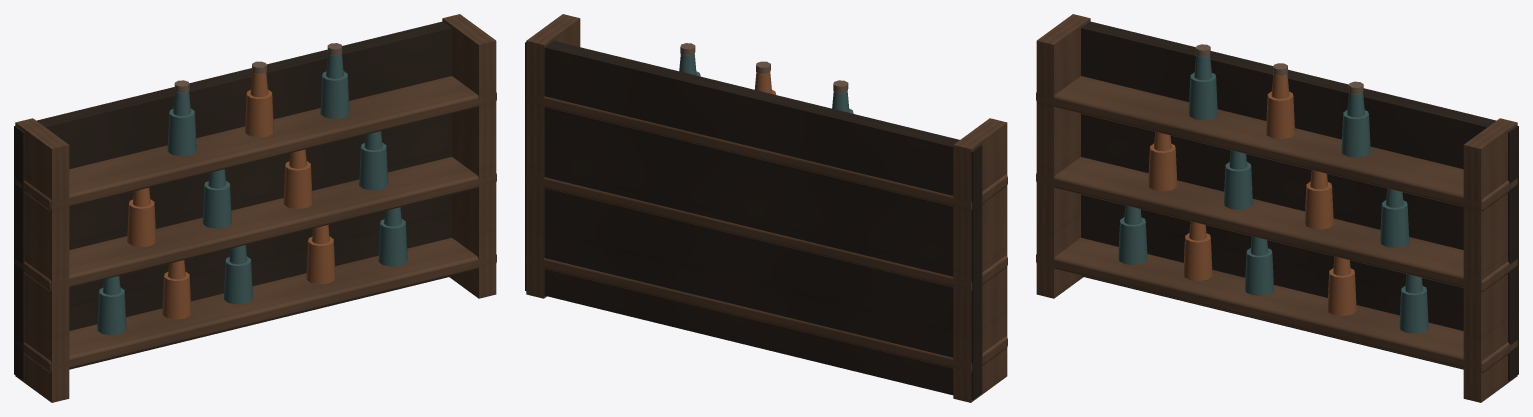
The model's file is sk-bar-shelf.glb.
The picture shows the model from 3 angles, left to right: view 1: azimuth 30°, elevation 25°; view 2: azimuth 150°, elevation 25°; view 3: azimuth 330°, elevation 25°; orthographic projection.
Visible parts, largest first — view 1: interior:bar_shelf-static-wood-shelf, shelf-backboard, interior:bar_shelf-static-bottle-glass, interior:bar_shelf-static-bottle-amber, interior:bar_shelf-static-bottle-cork; view 2: shelf-backboard, interior:bar_shelf-static-wood-shelf, interior:bar_shelf-static-bottle-glass, interior:bar_shelf-static-bottle-cork; view 3: interior:bar_shelf-static-wood-shelf, shelf-backboard, interior:bar_shelf-static-bottle-glass, interior:bar_shelf-static-bottle-amber, interior:bar_shelf-static-bottle-cork.
Boxes of the visible parts, x1=… form: interior:bar_shelf-static-wood-shelf: x1=15, y1=14, x2=496, y2=402; shelf-backboard: x1=14, y1=21, x2=451, y2=380; interior:bar_shelf-static-bottle-glass: x1=97, y1=54, x2=407, y2=335; interior:bar_shelf-static-bottle-amber: x1=127, y1=72, x2=335, y2=319; interior:bar_shelf-static-bottle-cork: x1=174, y1=43, x2=342, y2=92; shelf-backboard: x1=525, y1=40, x2=982, y2=399; interior:bar_shelf-static-wood-shelf: x1=526, y1=14, x2=1007, y2=402; interior:bar_shelf-static-bottle-glass: x1=679, y1=54, x2=853, y2=113; interior:bar_shelf-static-bottle-cork: x1=680, y1=43, x2=848, y2=92; interior:bar_shelf-static-wood-shelf: x1=1036, y1=14, x2=1517, y2=402; shelf-backboard: x1=1081, y1=21, x2=1518, y2=380; interior:bar_shelf-static-bottle-glass: x1=1118, y1=55, x2=1428, y2=333; interior:bar_shelf-static-bottle-amber: x1=1148, y1=74, x2=1356, y2=315; interior:bar_shelf-static-bottle-cork: x1=1195, y1=44, x2=1363, y2=94.
Size of the model in its own units: 2.55 by 1.47 by 0.36.
Materials: 5 (2 with a texture image).
